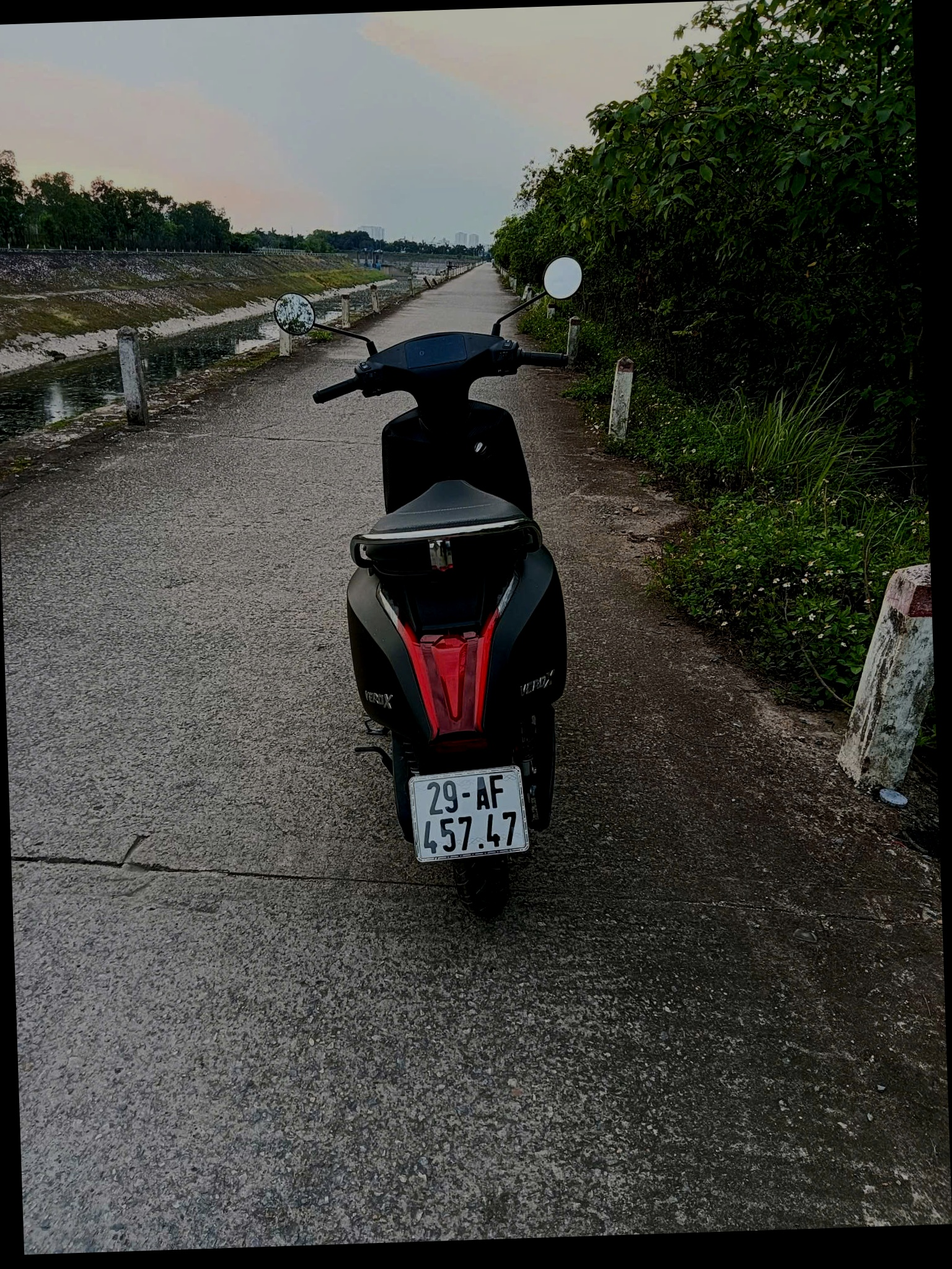Bien-so: (407, 778, 533, 887)
